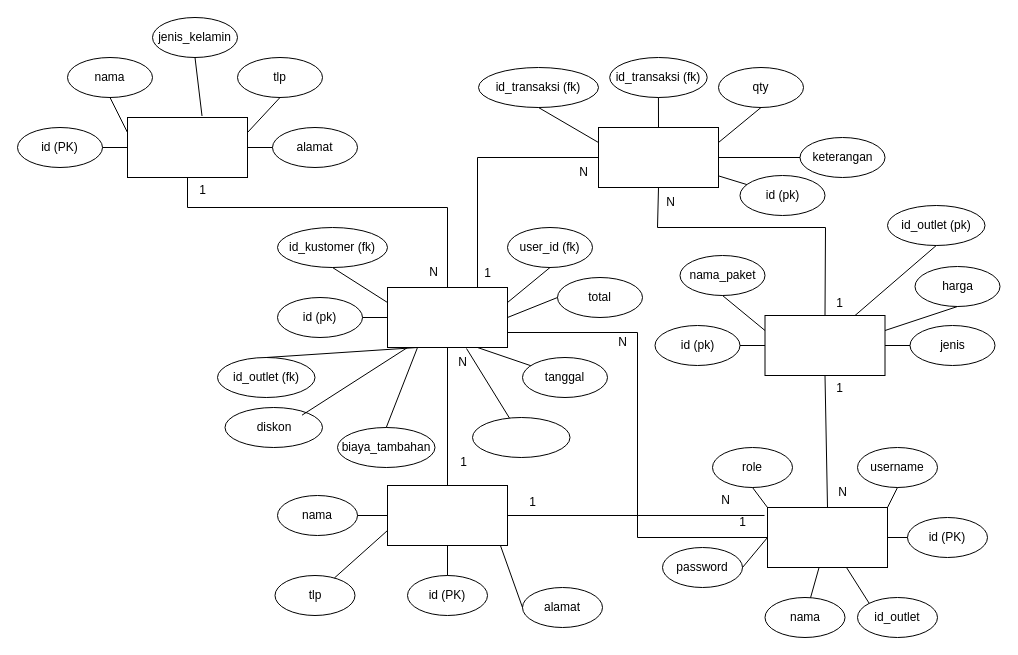
Some shapes in this 1018 by 655 pixel diagram are drawn without their labels. The shapes that lost their labels are listed below. From the top down, each one's centre as x and y in pixels, then its label:
(x=187, y=147): kustomer
(x=658, y=157): detail_transaksi
(x=447, y=317): transaksi
(x=824, y=345): paket
(x=521, y=437): status
(x=447, y=515): outlet
(x=827, y=537): user
